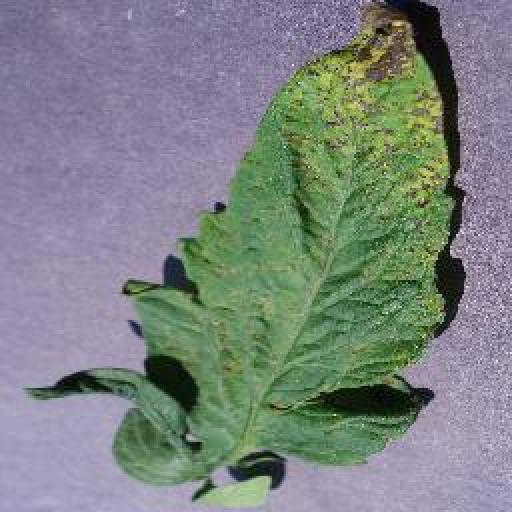disease_tomato: (120, 0, 458, 466)
